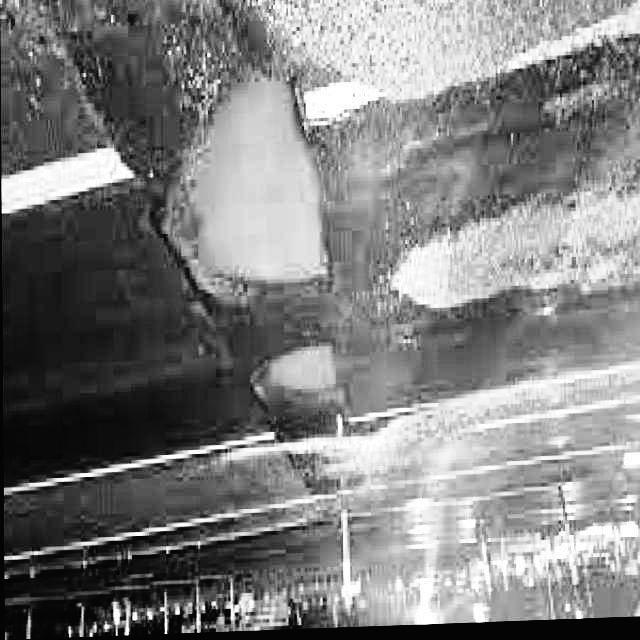Pothole: (170, 55, 338, 318), (248, 327, 343, 422)
